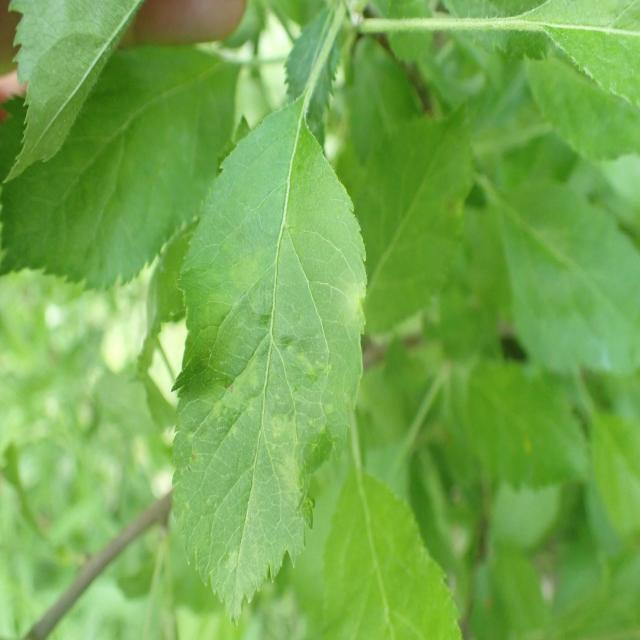scab: (192, 162, 365, 596)
